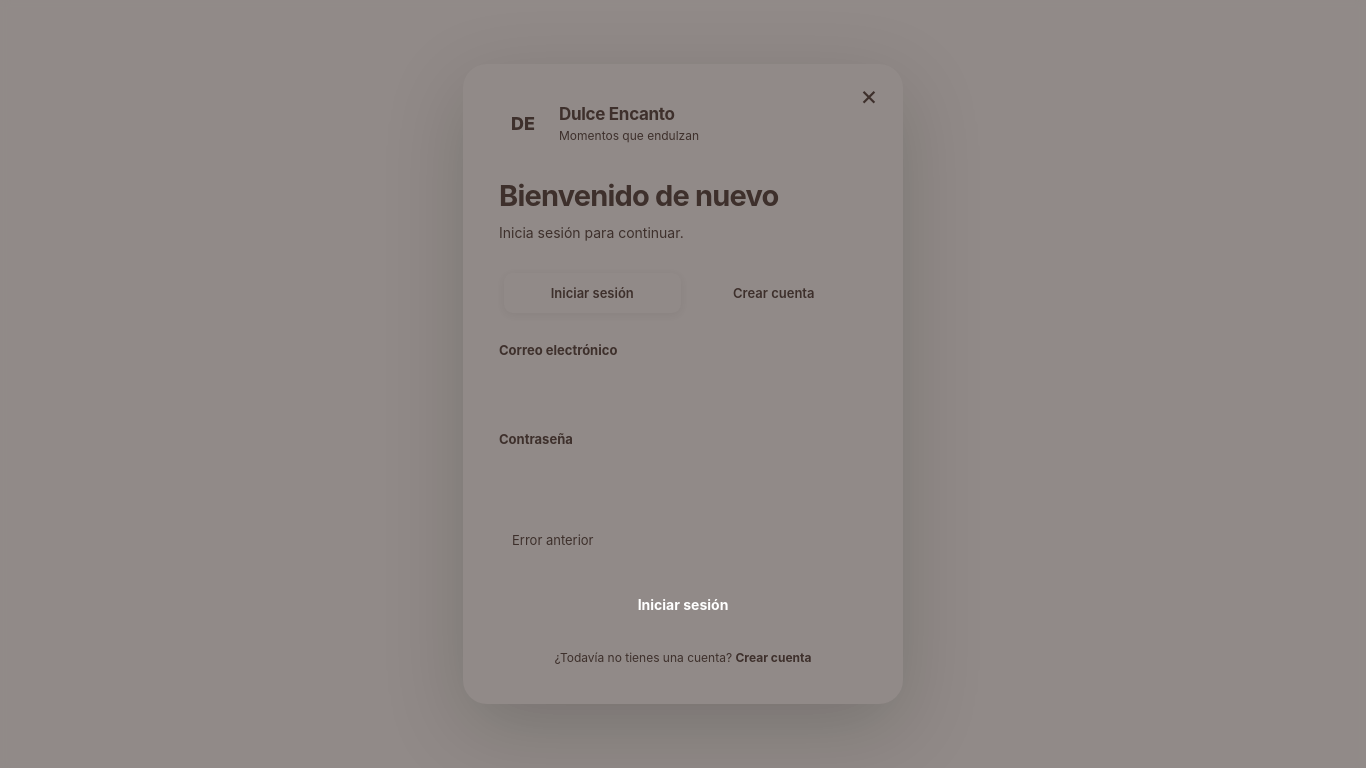
it: Auth › cambia al formulario de registro y limpia los mensajes anteriores
The width and height of the screenshot is (1366, 768).
Expected: the message reads "Error anterior", [512,532,594,548]
Click the 1st button "Crear cuenta" at (774, 293), box [686,273,862,313]
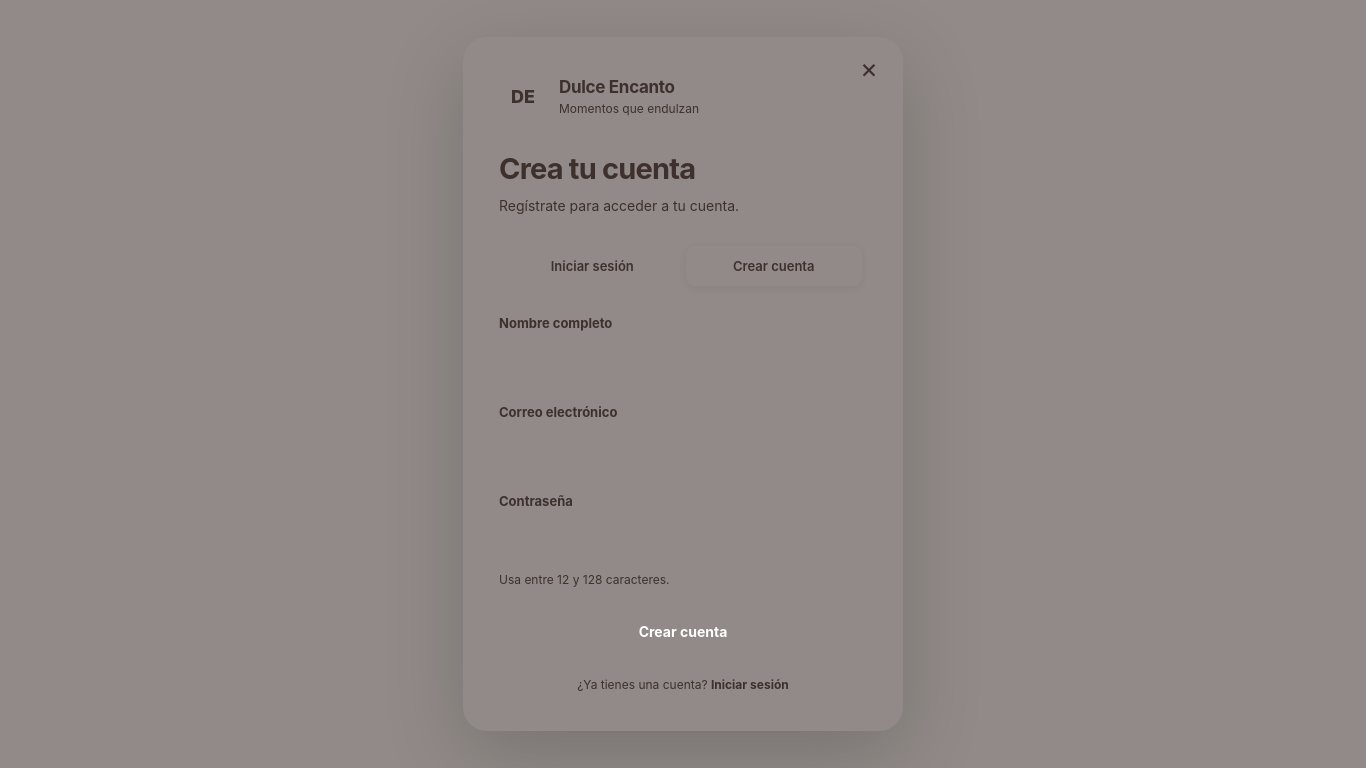
Result: the heading "Crea tu cuenta" is shown at [499,150,695,186]
Result: the text "Regístrate para acceder a tu cuenta." is shown at [499,196,739,214]
